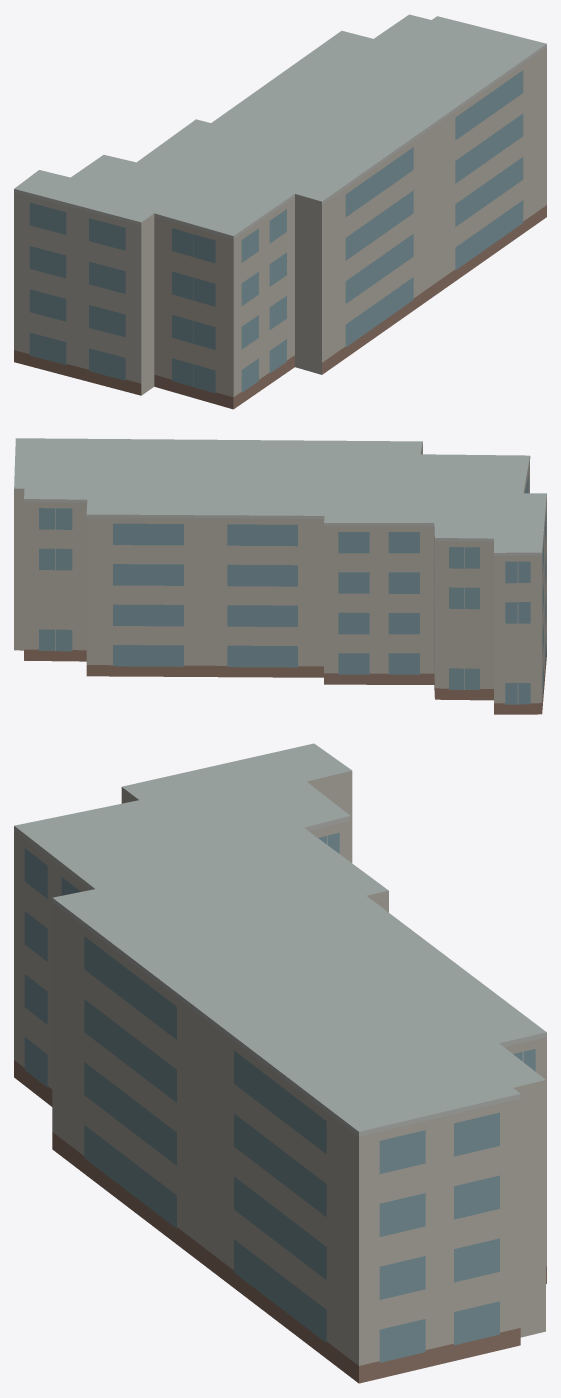
The model's file is survey-upis-32582417.glb.
The picture shows the model from 3 angles, top to bottom: view 1: azimuth 30°, elevation 25°; view 2: azimuth 150°, elevation 25°; view 3: azimuth 270°, elevation 25°; orthographic projection. The views are drawn at different scales.
Visible parts, largest first — view 1: survey-upis-32582417.tmp; view 2: survey-upis-32582417.tmp; view 3: survey-upis-32582417.tmp.
Boxes of the visible parts, x1=… form: survey-upis-32582417.tmp: x1=14, y1=14, x2=546, y2=409; survey-upis-32582417.tmp: x1=14, y1=438, x2=546, y2=714; survey-upis-32582417.tmp: x1=14, y1=743, x2=546, y2=1383.
Size of the model in its own units: 42.38 by 12.8 by 24.57.
